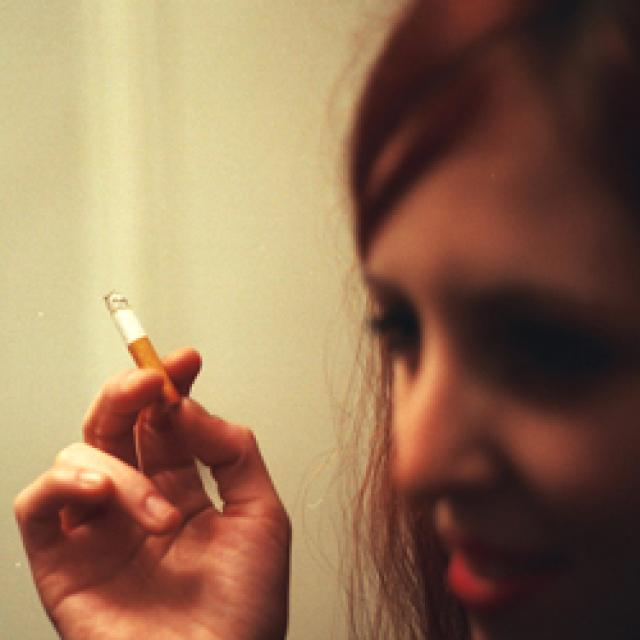Smooking: (96, 278, 202, 418)
